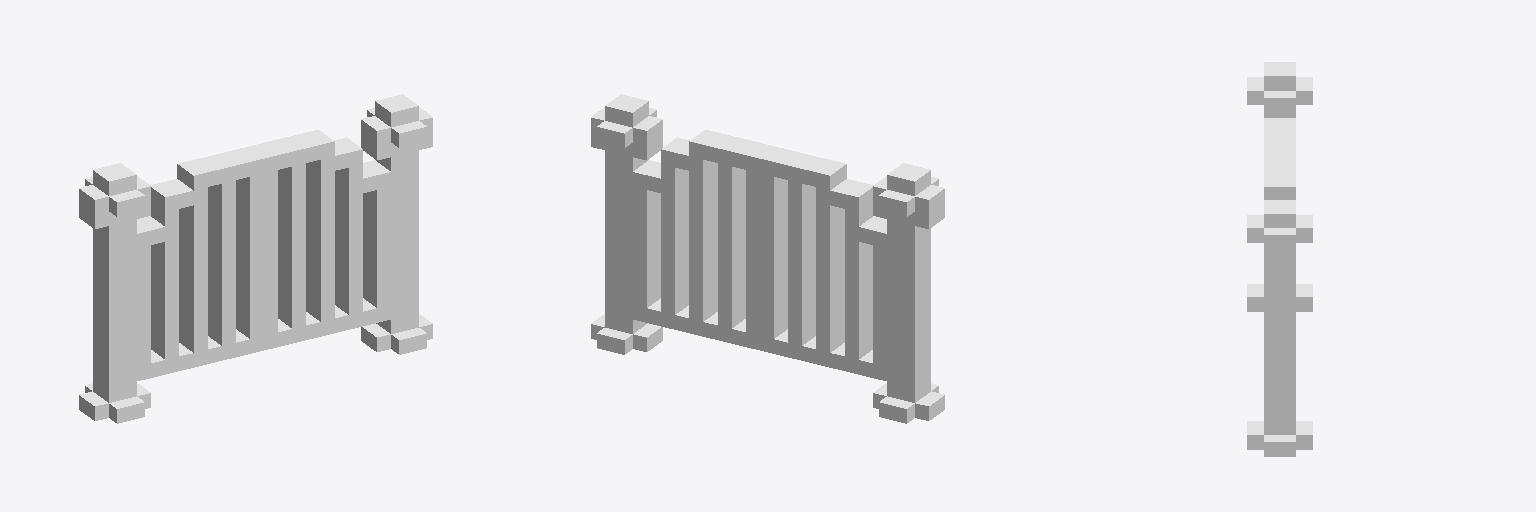
File: cerca.obj
3 views of the same model, side by side, from view 1: azimuth 30°, elevation 25°; view 2: azimuth 150°, elevation 25°; view 3: azimuth 270°, elevation 25° (orthographic).
Parts seen in each view (by area): view 1: object 1; view 2: object 1; view 3: object 1.
Part boxes in pixels (left/top/right/bottom): object 1: left=79, top=94, right=432, bottom=423; object 1: left=591, top=94, right=944, bottom=423; object 1: left=1247, top=62, right=1312, bottom=456.
Size of the model in its own units: 2.4 by 1.6 by 0.4.